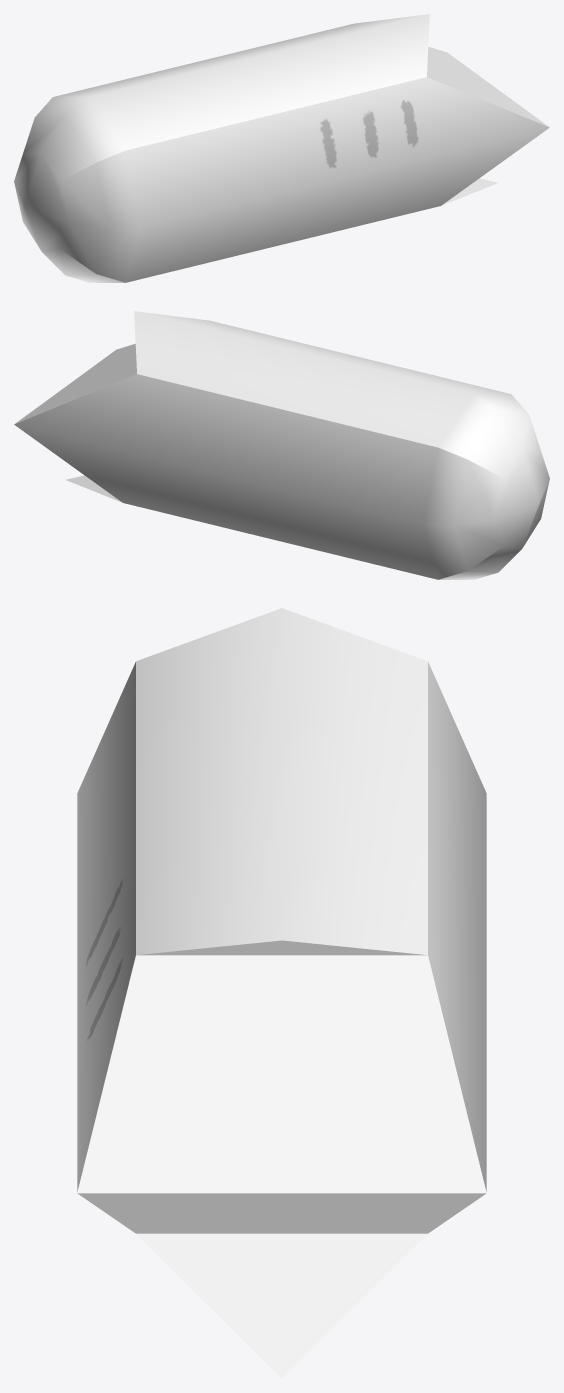
The model's file is broken_test_tube_left.fbx.
3 views of the same model, one above another, from view 1: azimuth 30°, elevation 25°; view 2: azimuth 150°, elevation 25°; view 3: azimuth 270°, elevation 25° (orthographic). The views are drawn at different scales.
Visible parts, largest first — view 1: left; view 2: left; view 3: left.
Boxes of the visible parts, <box> form: left: <box>14,14,549,282</box>; left: <box>14,311,549,579</box>; left: <box>77,608,486,1378</box>.
Bounding box in the file's own units: 3.24 × 1.21 × 1.21.
